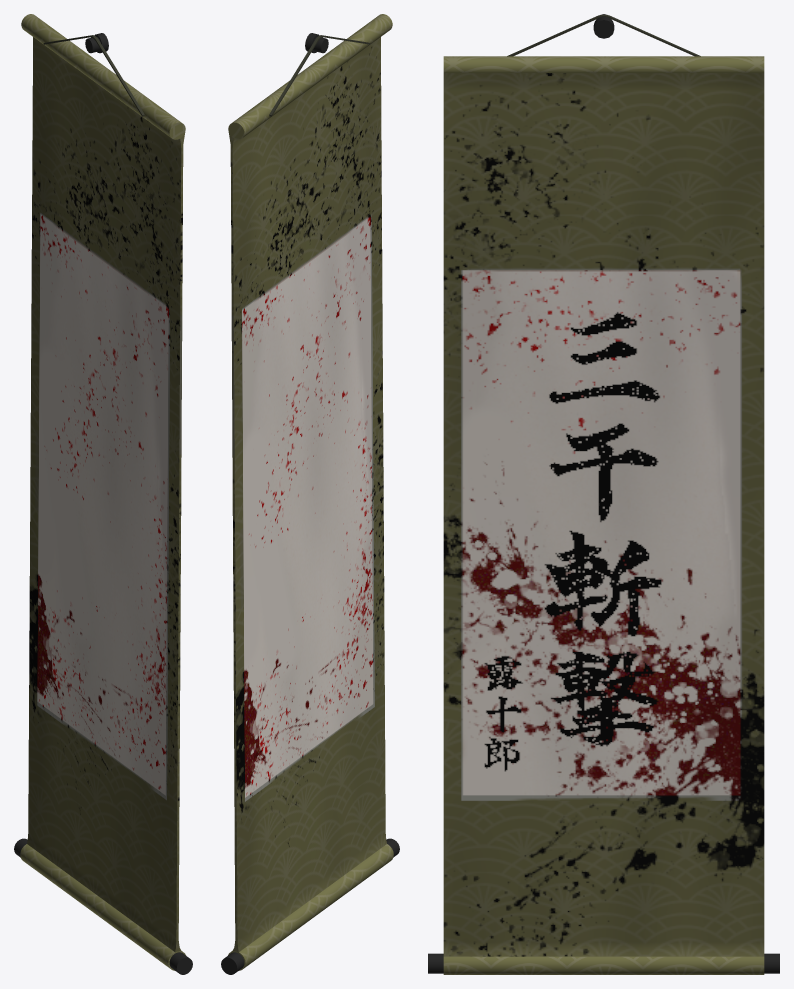
Rendered from roll.fbx.
The picture shows the model from 3 angles, left to right: view 1: azimuth 30°, elevation 25°; view 2: azimuth 150°, elevation 25°; view 3: azimuth 270°, elevation 25°; orthographic projection. The views are drawn at different scales.
Parts seen in each view (by area): view 1: scroll; view 2: scroll; view 3: scroll.
Part boxes in pixels (box(x1,y1,x2,y2)): scroll: box(14, 14, 192, 974); scroll: box(221, 14, 399, 974); scroll: box(428, 14, 779, 974).
Size of the model in its own units: 0.9952 by 35.45 by 11.85.
Materials: 1 (1 with a texture image).
